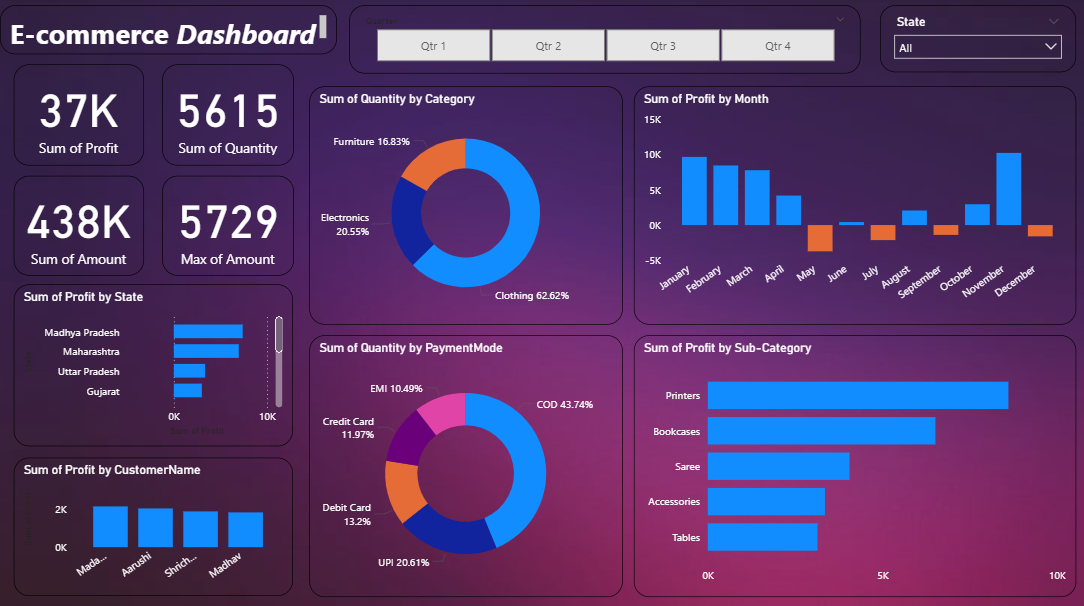

The page's visual inventory and layout, read from the dashboard file:
{"tool":"powerbi","page":{"name":"Page 1","canvas":[1280,720],"ordinal":0},"visuals":[{"type":"card","fields":{"Values":["Sum(Details.Profit)"]},"box":[16.5,79.8,152.7,118.3],"z":0},{"type":"card","fields":{"Values":["Sum(Details.Amount)"]},"box":[16.5,209,152.7,116.9],"z":1000},{"type":"card","fields":{"Values":["Sum(Details.Quantity)"]},"box":[189.8,79.8,154,118.3],"z":2000},{"type":"card","fields":{"Values":["Max(Details.Amount)"]},"box":[189.8,209,154,116.9],"z":3000},{"type":"donutChart","fields":{"Category":["Details.PaymentMode"],"Y":["Sum(Details.Quantity)"]},"box":[363.1,396.1,367.2,306.7],"z":4000},{"type":"donutChart","fields":{"Y":["Sum(Details.Quantity)"],"Category":["Details.Category"]},"box":[363.1,104.5,367.2,279.2],"z":5000},{"type":"clusteredColumnChart","fields":{"Y":["Sum(Details.Profit)"],"Category":["Orders.Order Date.Variation.Date Hierarchy.Month"]},"box":[742.6,104.5,518.5,279.2],"z":6000},{"type":"clusteredBarChart","fields":{"Category":["Details.Sub-Category"],"Y":["Sum(Details.Profit)"]},"box":[742.6,396.1,518.5,306.7],"z":7000},{"type":"clusteredBarChart","fields":{"Y":["Sum(Details.Profit)"],"Category":["Orders.State"]},"box":[16.5,336.9,327.3,189.8],"z":8000},{"type":"clusteredColumnChart","fields":{"Category":["Orders.CustomerName"],"Y":["Sum(Details.Profit)"]},"box":[16.5,540.5,327.3,162.3],"z":9000},{"type":"slicer","fields":{"Values":["Orders.Order Date.Variation.Date Hierarchy.Quarter"]},"box":[409.8,9.6,599.6,79.8],"z":10000},{"type":"slicer","fields":{"Values":["Orders.State"]},"box":[1031.5,9.6,229.7,78.4],"z":11000},{"type":"textbox","box":[0,9.6,394.7,57.8],"z":12000}]}

Visuals, with their boxes in screenshot pixels (x1, y1, x2, y2), scaled from the page's 1280x720 canvas onto the 1084x606 screenshot:
card - Sum(Details.Profit): 14, 67, 143, 167
card - Sum(Details.Amount): 14, 176, 143, 274
card - Sum(Details.Quantity): 161, 67, 291, 167
card - Max(Details.Amount): 161, 176, 291, 274
donutChart - Details.PaymentMode x Sum(Details.Quantity): 308, 333, 618, 592
donutChart - Sum(Details.Quantity) x Details.Category: 308, 88, 618, 323
clusteredColumnChart - Sum(Details.Profit) x Orders.Order Date.Variation.Date Hierarchy.Month: 629, 88, 1068, 323
clusteredBarChart - Details.Sub-Category x Sum(Details.Profit): 629, 333, 1068, 592
clusteredBarChart - Sum(Details.Profit) x Orders.State: 14, 284, 291, 443
clusteredColumnChart - Orders.CustomerName x Sum(Details.Profit): 14, 455, 291, 592
slicer - Orders.Order Date.Variation.Date Hierarchy.Quarter: 347, 8, 855, 75
slicer - Orders.State: 874, 8, 1068, 74
textbox: 0, 8, 334, 57
